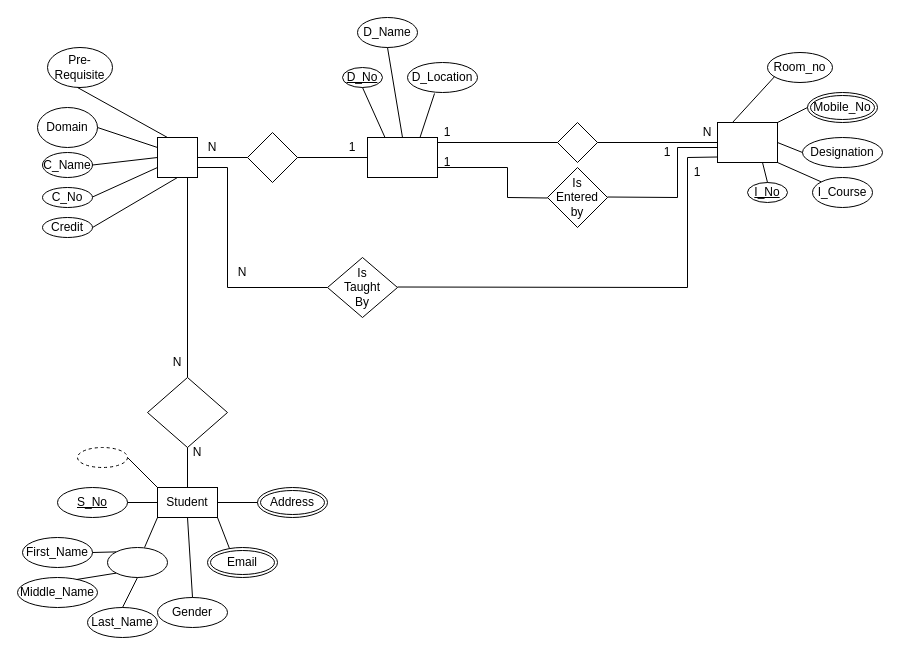
Some shapes in this 900 by 655 pixel diagram are drawn without their labels. Each missing label, with the centre of its shape:
Age: (x=102, y=457)
course: (x=177, y=157)
Department: (x=402, y=157)
Enrolled By: (x=187, y=412)
Has: (x=577, y=142)
Instructor: (x=747, y=142)
offers: (x=272, y=157)
S_Name: (x=137, y=562)
